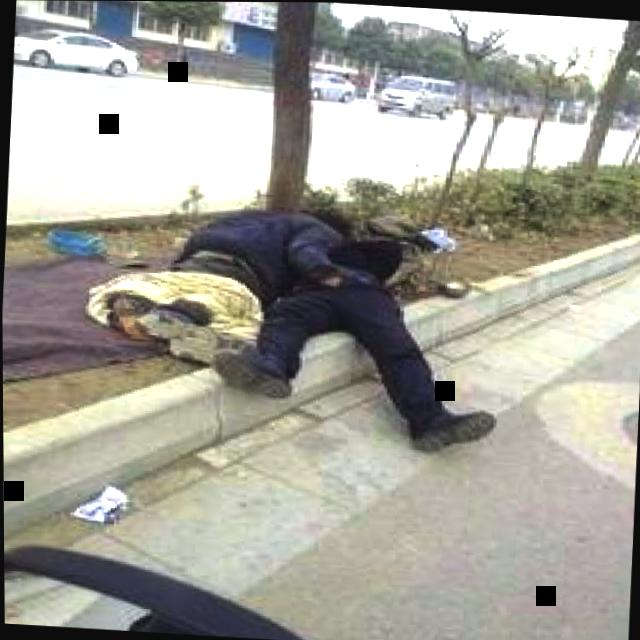Fall-Detected: (75, 174, 341, 385)
